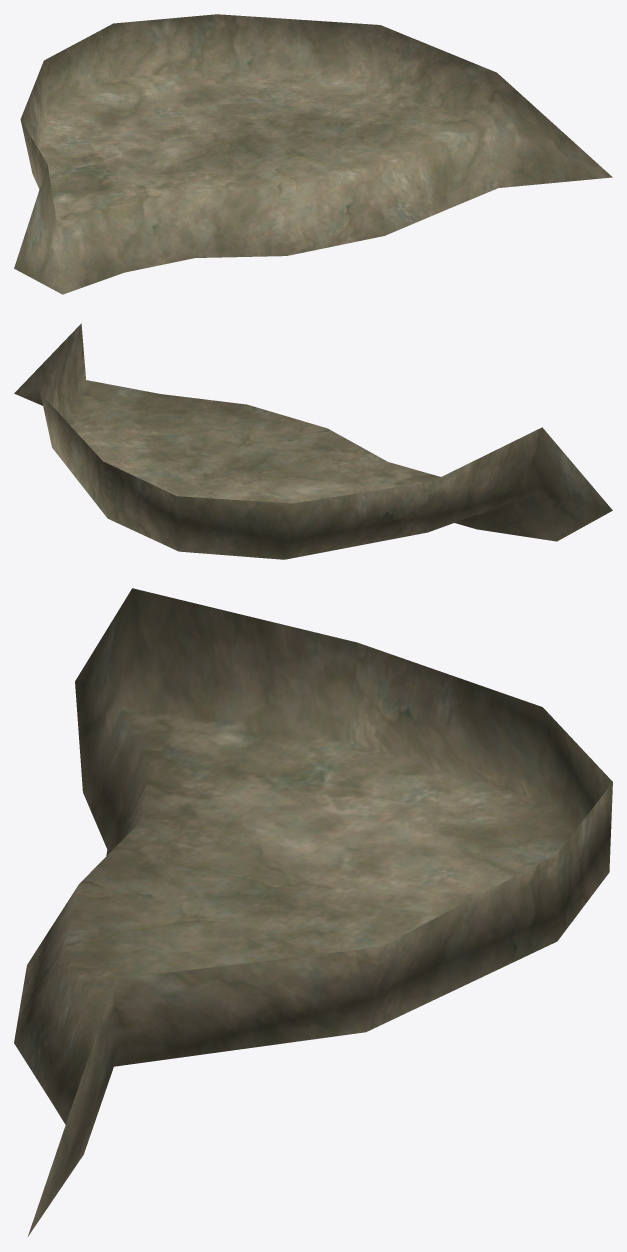
File: EKH_CAVERNS_PS_CA_PLATFORM88476.fbx
3 views of the same model, one above another, from view 1: azimuth 30°, elevation 25°; view 2: azimuth 150°, elevation 25°; view 3: azimuth 270°, elevation 25° (orthographic). The views are drawn at different scales.
Parts seen in each view (by area): view 1: EKH_CAVERNS_PS_CA_PLATFORM88476; view 2: EKH_CAVERNS_PS_CA_PLATFORM88476; view 3: EKH_CAVERNS_PS_CA_PLATFORM88476.
Part boxes in pixels (left/top/right/bottom): EKH_CAVERNS_PS_CA_PLATFORM88476: left=14, top=14, right=612, bottom=294; EKH_CAVERNS_PS_CA_PLATFORM88476: left=14, top=323, right=612, bottom=559; EKH_CAVERNS_PS_CA_PLATFORM88476: left=14, top=588, right=612, bottom=1236.
Size of the model in its own units: 57279 by 11306 by 29845.
Materials: 1 (1 with a texture image).
